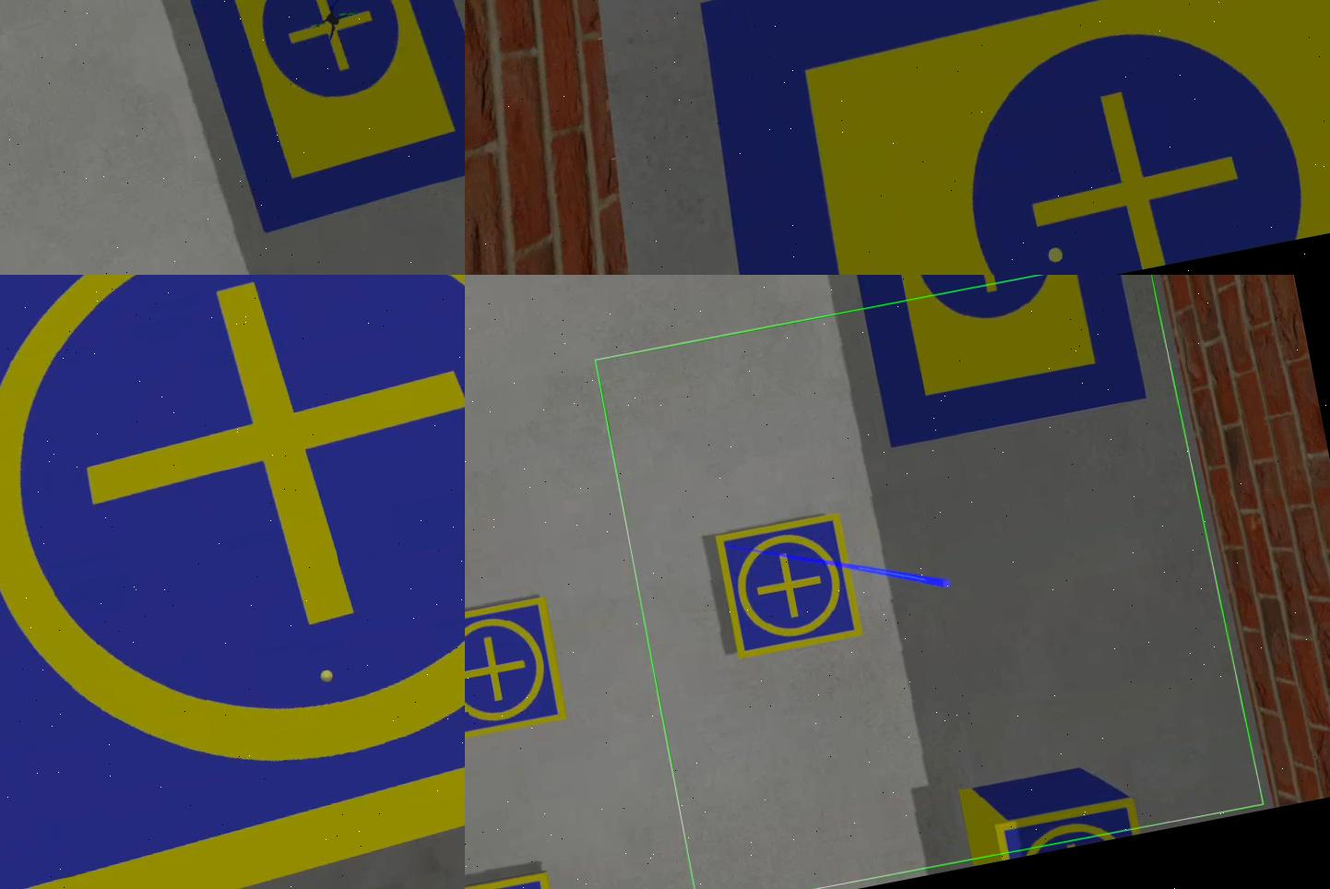large_base: (677, 1, 1330, 276), (152, 1, 466, 243), (833, 276, 1151, 454)
small_base: (1, 276, 466, 889), (713, 513, 862, 663), (466, 598, 569, 750), (992, 797, 1145, 868), (466, 864, 561, 889)
